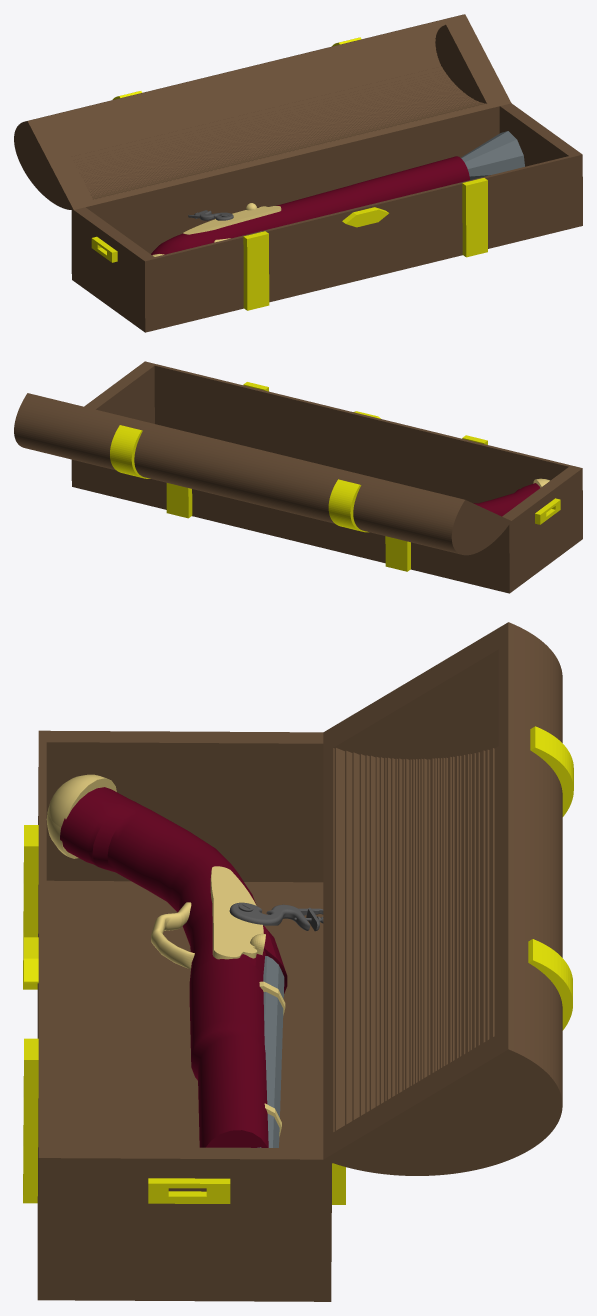
File: blunderbussChest.fbx
3 views of the same model, one above another, from view 1: azimuth 30°, elevation 25°; view 2: azimuth 150°, elevation 25°; view 3: azimuth 270°, elevation 25° (orthographic). The views are drawn at different scales.
Visible parts, largest first — view 1: blunderbussChest:woodPortions, blunderbussChest:blunderbuss1:blunderbuss:pCylinder6, blunderbussChest:outerDecor; view 2: blunderbussChest:woodPortions, blunderbussChest:outerDecor, blunderbussChest:blunderbuss1:blunderbuss:pCylinder6; view 3: blunderbussChest:woodPortions, blunderbussChest:blunderbuss1:blunderbuss:pCylinder6, blunderbussChest:outerDecor.
Part boxes in pixels (left/top/right/bottom): blunderbussChest:woodPortions: left=14, top=14, right=582, bottom=332; blunderbussChest:blunderbuss1:blunderbuss:pCylinder6: left=151, top=131, right=524, bottom=256; blunderbussChest:outerDecor: left=91, top=37, right=487, bottom=310; blunderbussChest:woodPortions: left=14, top=361, right=582, bottom=593; blunderbussChest:outerDecor: left=110, top=382, right=560, bottom=571; blunderbussChest:blunderbuss1:blunderbuss:pCylinder6: left=473, top=478, right=549, bottom=516; blunderbussChest:woodPortions: left=37, top=622, right=562, bottom=1301; blunderbussChest:blunderbuss1:blunderbuss:pCylinder6: left=46, top=774, right=323, bottom=1147; blunderbussChest:outerDecor: left=23, top=726, right=573, bottom=1204.
Bounding box in the file's own units: 81.99 × 22.05 × 43.58.
